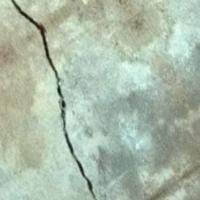crack: (6, 1, 100, 197)
